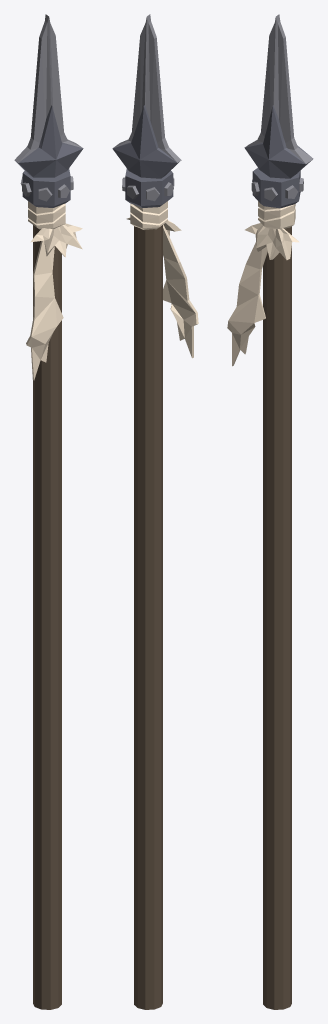
The model's file is _SPEAR.fbx.
3 renders of one model, left to right at view 1: azimuth 30°, elevation 25°; view 2: azimuth 150°, elevation 25°; view 3: azimuth 330°, elevation 25°, orthographic.
Parts seen in each view (by area): view 1: SPEAR; view 2: SPEAR; view 3: SPEAR.
Boxes of the visible parts, x1=… form: SPEAR: x1=14, y1=14, x2=83, y2=1009; SPEAR: x1=112, y1=14, x2=198, y2=1009; SPEAR: x1=227, y1=14, x2=313, y2=1009.
Size of the model in its own units: 22.51 by 314 by 17.59.
